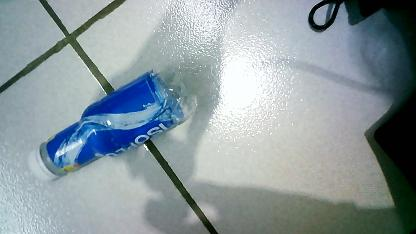Plastic Bottle: (27, 62, 198, 188)
